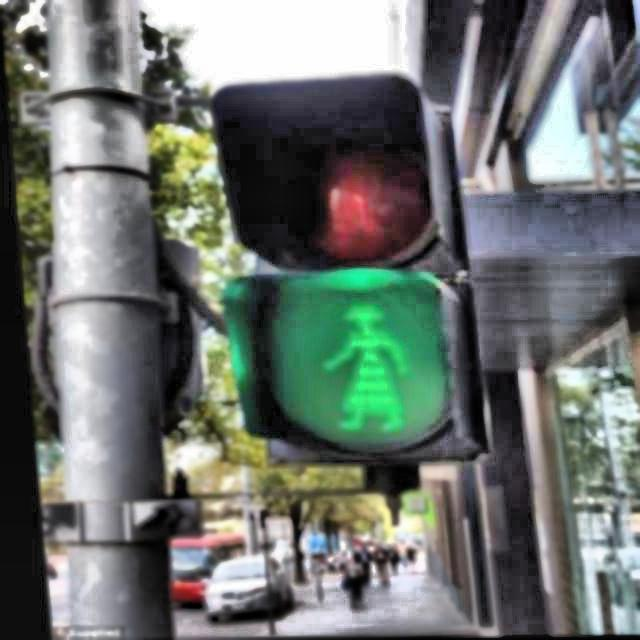semaforo pedestre: (153, 22, 531, 561)
